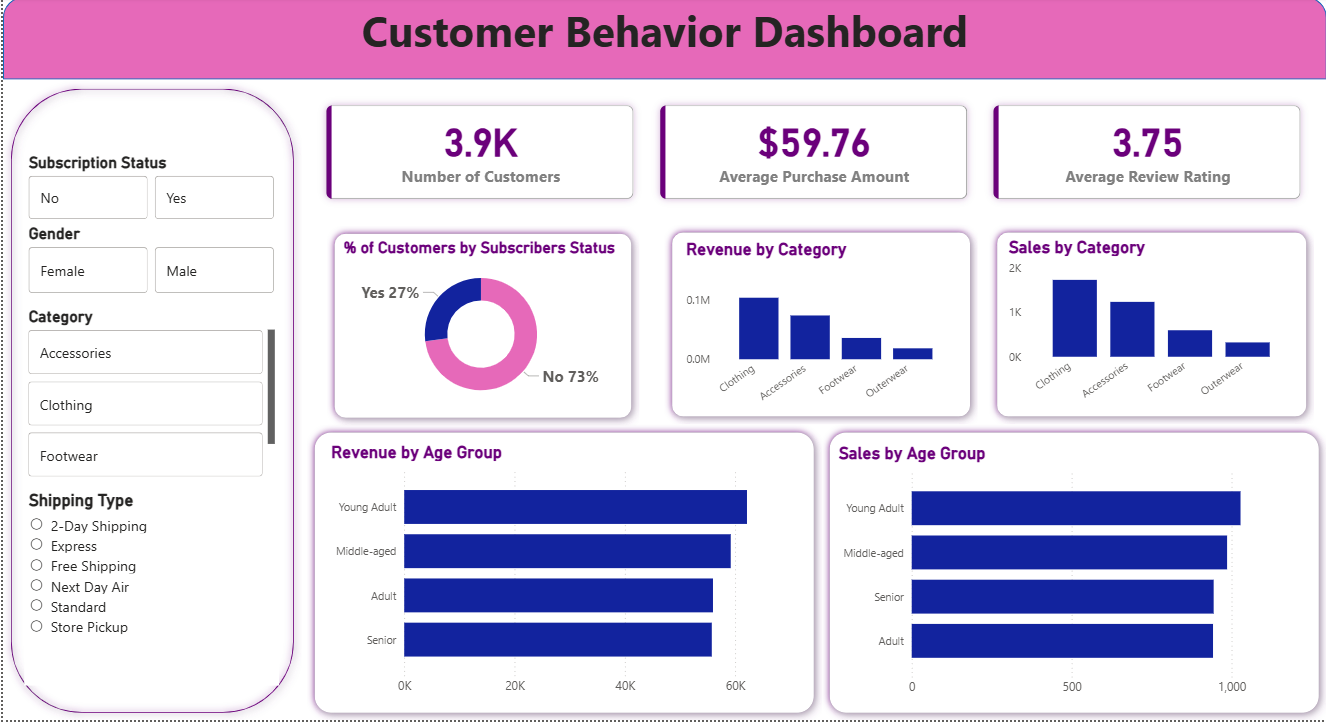

The dashboard page shown, as its layout file describes it:
{"tool":"powerbi","page":{"name":"Page 1","canvas":[1500,820],"ordinal":0},"visuals":[{"type":"cardVisual","fields":{"Data":["customer_behavior customer.Number of Customers","customer_behavior customer.Average Purchase Amount","customer_behavior customer.Average Review Rating"]},"box":[338.6,94.9,1161.7,162.9],"z":0},{"type":"shape","box":[0,0,1500.3,93.5],"z":1000},{"type":"textbox","box":[0,0,1500.3,79.3],"z":2000},{"type":"shape","box":[366.9,259.3,354.2,226.7],"z":3000},{"type":"donutChart","title":"% of Customers by Subscribers Status","fields":{"Category":["customer_behavior customer.subscription_status"],"Y":["CountNonNull(customer_behavior customer.customer_id)"]},"box":[381.1,273.4,321.6,196.9],"z":4000},{"type":"shape","box":[749.5,257.8,355.6,226.7],"z":5000},{"type":"shape","box":[1117.8,257.8,368.4,226.7],"z":6000},{"type":"clusteredColumnChart","title":"Revenue by Category","fields":{"Y":["Sum(customer_behavior customer.purchase_amount)"],"Category":["customer_behavior customer.category"]},"box":[769.3,274.8,314.5,196.9],"z":7000},{"type":"clusteredColumnChart","title":"Sales by Category","fields":{"Y":["CountNonNull(customer_behavior customer.customer_id)"],"Category":["customer_behavior customer.category"]},"box":[1134.8,272,334.3,196.9],"z":8000},{"type":"shape","box":[0,94.9,338.6,725.4],"z":9000},{"type":"advancedSlicerVisual","fields":{"Values":["customer_behavior customer.subscription_status"]},"box":[24.1,177.1,289,80.8],"z":10000},{"type":"advancedSlicerVisual","fields":{"Values":["customer_behavior customer.gender"]},"box":[24.1,257.8,289,83.6],"z":11000},{"type":"advancedSlicerVisual","fields":{"Values":["customer_behavior customer.category"]},"box":[24.1,351.3,289,198.3],"z":12000},{"type":"listSlicer","fields":{"Values":["customer_behavior customer.shipping_type"]},"box":[24.1,559.6,289,221],"z":13000},{"type":"shape","box":[344.3,484.5,583.7,335.8],"z":14000},{"type":"clusteredBarChart","title":"Revenue by Age Group","fields":{"Y":["Sum(customer_behavior customer.purchase_amount)"],"Category":["customer_behavior customer.age_group"]},"box":[366.9,504.4,542.6,296.1],"z":15000},{"type":"shape","box":[928,484.5,572.4,335.8],"z":16000},{"type":"clusteredBarChart","title":"Sales by Age Group","fields":{"Y":["CountNonNull(customer_behavior customer.customer_id)"],"Category":["customer_behavior customer.age_group"]},"box":[942.1,505.8,544,296.1],"z":17000}]}

Visuals, with their boxes in screenshot pixels (x1, y1, x2, y2), scaled from the page's 1500x820 canvas onto the 1326x722 screenshot:
cardVisual - customer_behavior customer.Number of Customers x customer_behavior customer.Average Purchase Amount: x1=299, y1=84, x2=1325, y2=227
shape: x1=0, y1=0, x2=1325, y2=82
textbox: x1=0, y1=0, x2=1325, y2=70
shape: x1=324, y1=228, x2=637, y2=428
"% of Customers by Subscribers Status" donutChart: x1=337, y1=241, x2=621, y2=414
shape: x1=663, y1=227, x2=977, y2=427
shape: x1=988, y1=227, x2=1314, y2=427
"Revenue by Category" clusteredColumnChart: x1=680, y1=242, x2=958, y2=415
"Sales by Category" clusteredColumnChart: x1=1003, y1=239, x2=1299, y2=413
shape: x1=0, y1=84, x2=299, y2=721
advancedSlicerVisual - customer_behavior customer.subscription_status: x1=21, y1=156, x2=277, y2=227
advancedSlicerVisual - customer_behavior customer.gender: x1=21, y1=227, x2=277, y2=301
advancedSlicerVisual - customer_behavior customer.category: x1=21, y1=309, x2=277, y2=484
listSlicer - customer_behavior customer.shipping_type: x1=21, y1=493, x2=277, y2=687
shape: x1=304, y1=427, x2=820, y2=721
"Revenue by Age Group" clusteredBarChart: x1=324, y1=444, x2=804, y2=705
shape: x1=820, y1=427, x2=1325, y2=721
"Sales by Age Group" clusteredBarChart: x1=833, y1=445, x2=1314, y2=706
